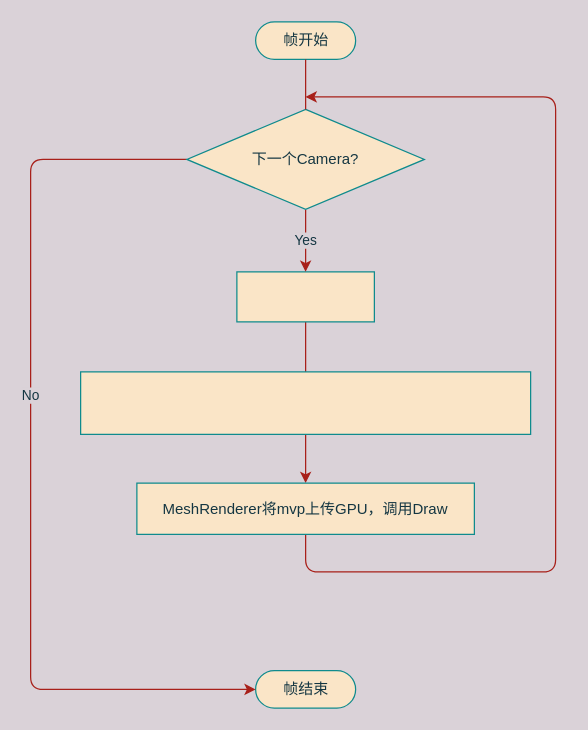
Image size: 588x730. Some labels were removed from this diagram. Here are the shapes that lost their labels. From the top down, the centre of each, then its label:
At (x=305, y=296): "设置当前Camera".
At (x=305, y=402): "MeshRenderer从当前Camera取View、Projection矩阵计算mvp".
